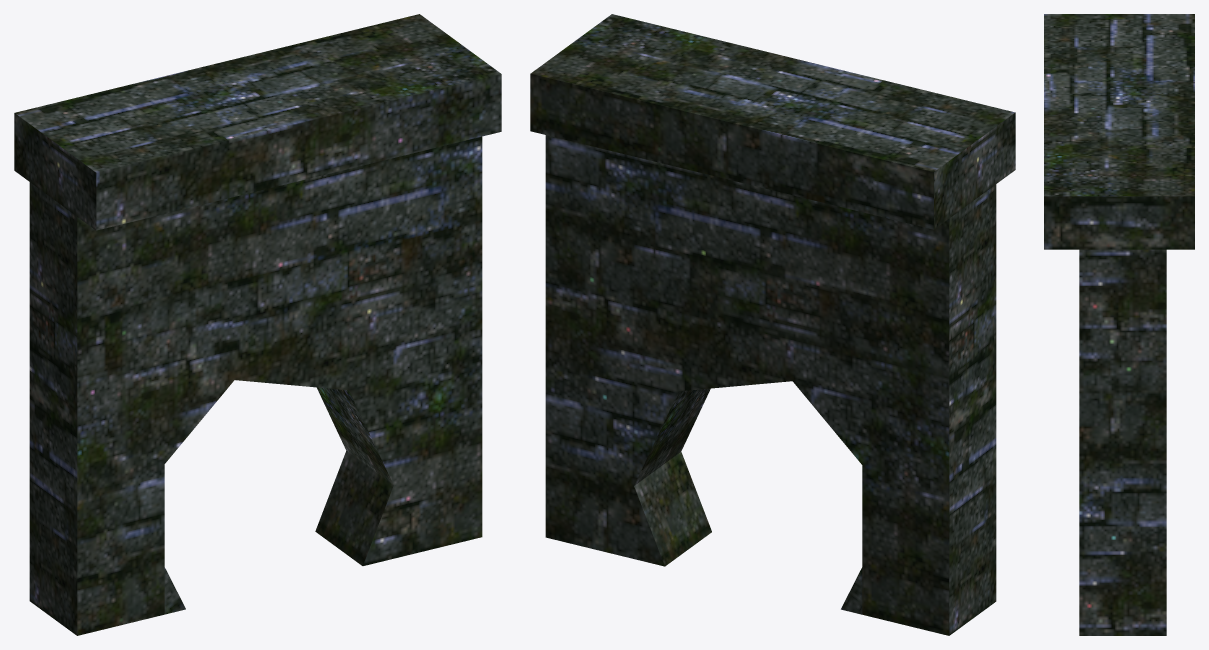
The model's file is wall1.fbx.
The picture shows the model from 3 angles, left to right: view 1: azimuth 30°, elevation 25°; view 2: azimuth 150°, elevation 25°; view 3: azimuth 270°, elevation 25°; orthographic projection. The views are drawn at different scales.
Parts seen in each view (by area): view 1: wall1; view 2: wall1; view 3: wall1.
Part boxes in pixels (<box>): wall1: <box>14,14,501,635</box>; wall1: <box>530,14,1015,635</box>; wall1: <box>1044,14,1194,635</box>.
Size of the model in its own units: 400 by 450 by 140.
